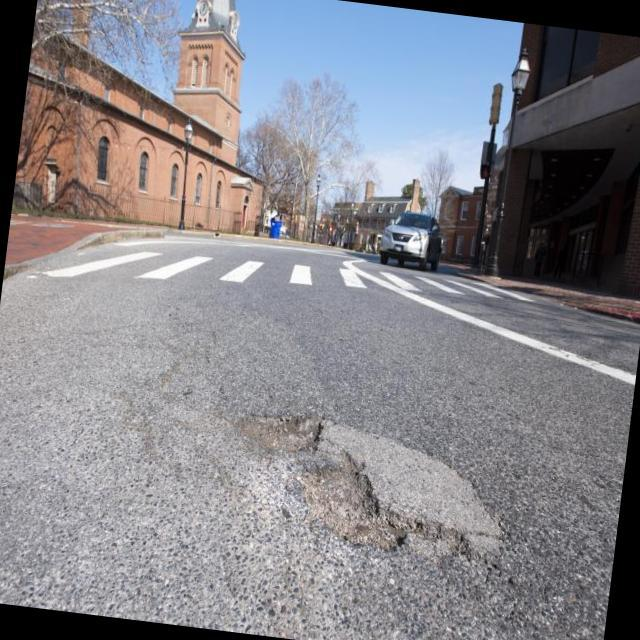Pothole: (295, 419, 496, 553), (233, 415, 403, 549), (236, 416, 314, 450), (257, 494, 292, 527)
